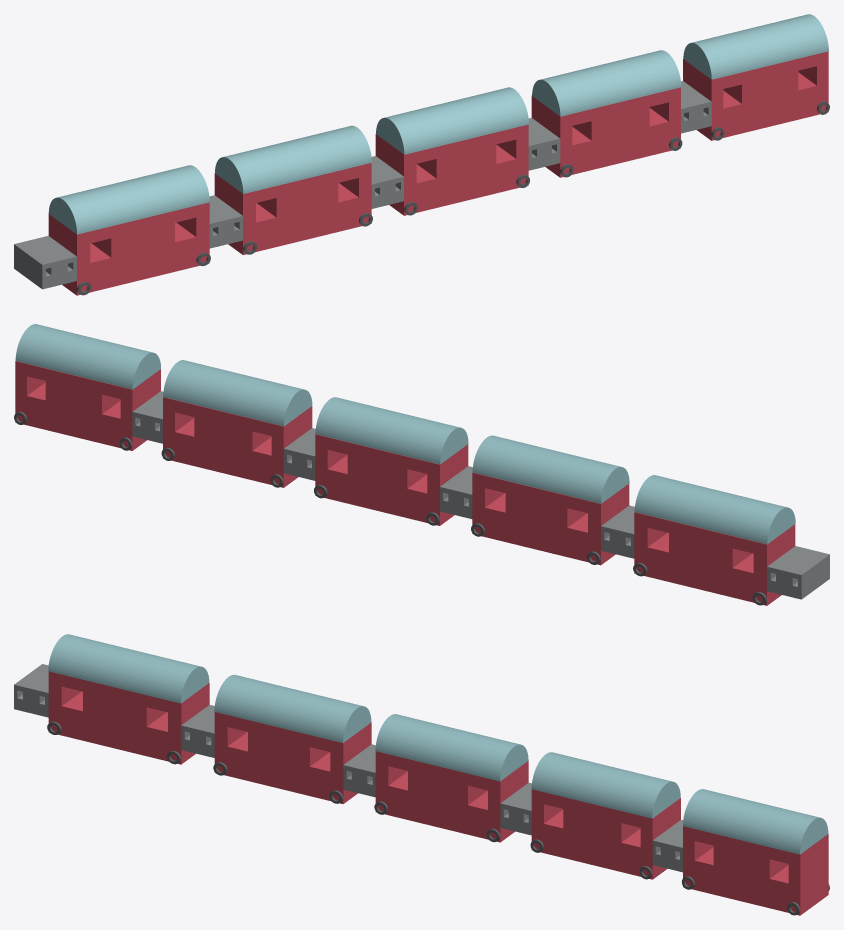
Rendered from Train.glb.
The picture shows the model from 3 angles, top to bottom: view 1: azimuth 30°, elevation 25°; view 2: azimuth 150°, elevation 25°; view 3: azimuth 330°, elevation 25°; orthographic projection.
Visible parts, largest first — view 1: Mesh_Mesh_head_geo.001_lambert2SG.001; view 2: Mesh_Mesh_head_geo.001_lambert2SG.001; view 3: Mesh_Mesh_head_geo.001_lambert2SG.001.
Boxes of the visible parts, left/top/right/bottom form: Mesh_Mesh_head_geo.001_lambert2SG.001: left=14, top=14, right=829, bottom=295; Mesh_Mesh_head_geo.001_lambert2SG.001: left=14, top=324, right=829, bottom=605; Mesh_Mesh_head_geo.001_lambert2SG.001: left=14, top=634, right=829, bottom=915.
Size of the model in its own units: 336 by 35 by 23.
